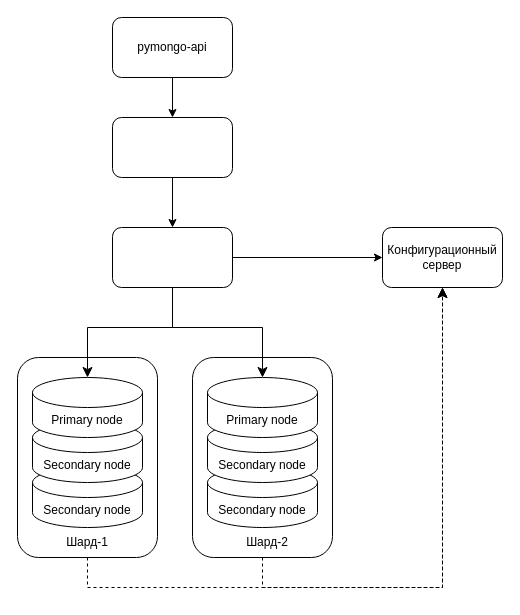
Image size: 520x615. Some labels were removed from this diagram. The centre of each missing label's shape, as x and y in pixels:
"Драйвер" goes at pixel 172 147.
"Роутер" goes at pixel 172 257.
